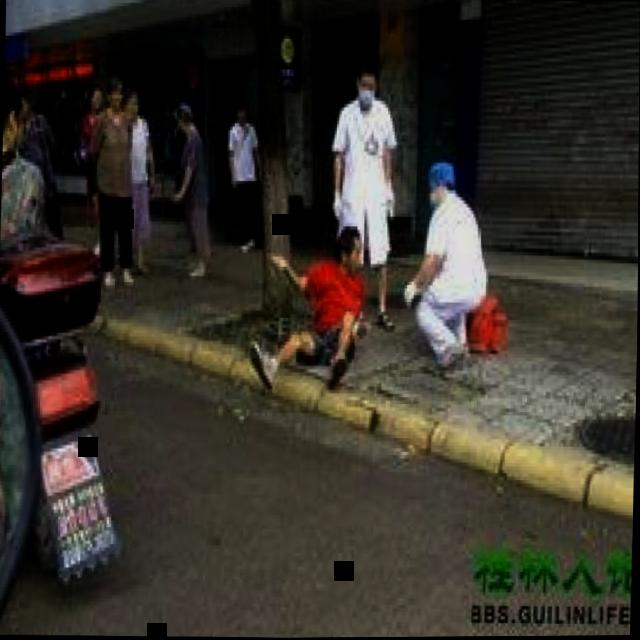Fall-Detected: (247, 211, 376, 381)
